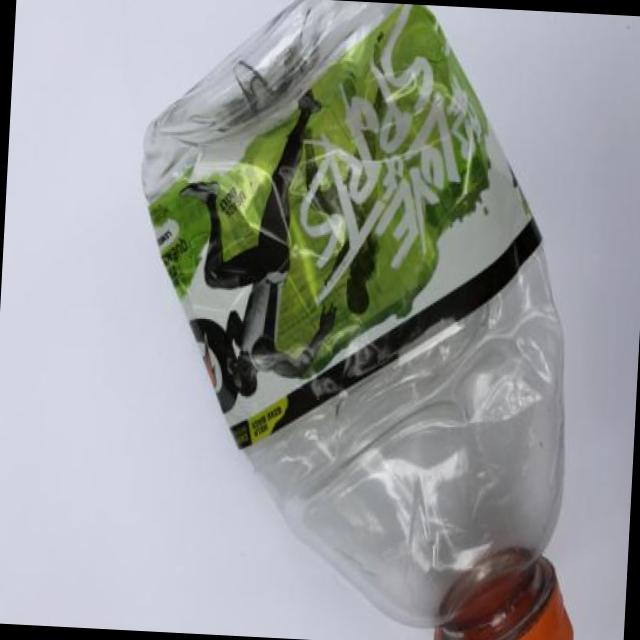Recycle: (117, 0, 608, 640)
